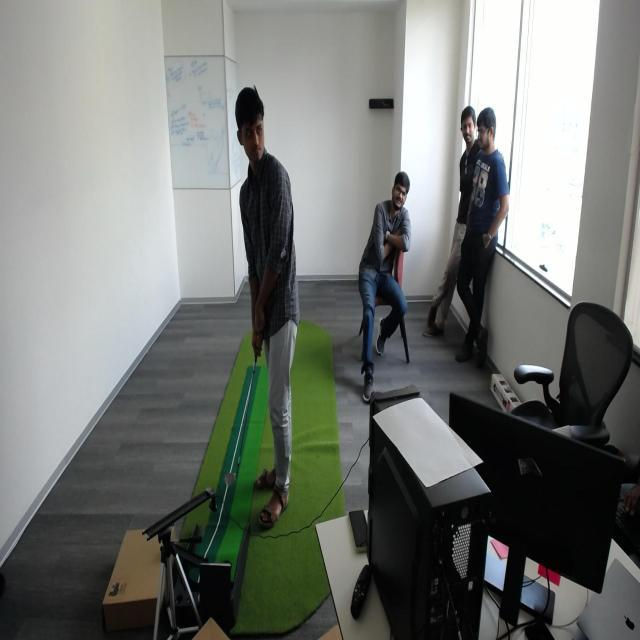ClubHead: (226, 454, 242, 490)
